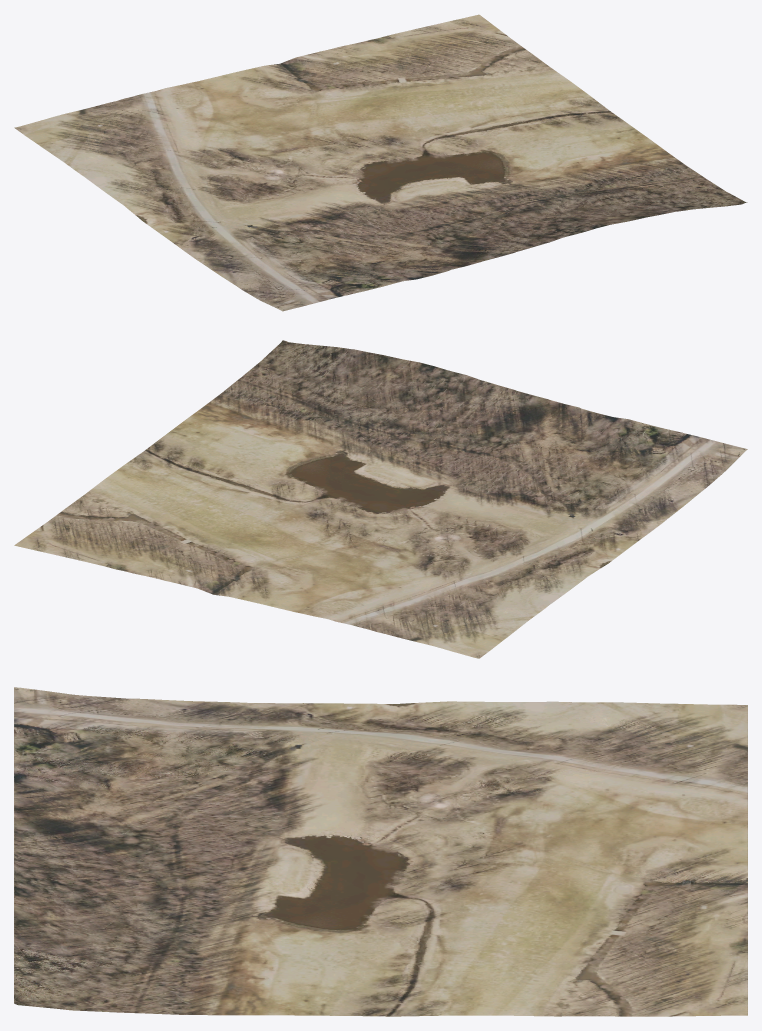
The model's file is CM_Terrain_24491278_6818975.fbx.
The picture shows the model from 3 angles, top to bottom: view 1: azimuth 30°, elevation 25°; view 2: azimuth 150°, elevation 25°; view 3: azimuth 270°, elevation 25°; orthographic projection. The views are drawn at different scales.
Parts seen in each view (by area): view 1: CM_Terrain_24491278_6818975_LOD0; view 2: CM_Terrain_24491278_6818975_LOD0; view 3: CM_Terrain_24491278_6818975_LOD0.
Boxes of the visible parts, <box> form: CM_Terrain_24491278_6818975_LOD0: <box>14,14,747,311</box>; CM_Terrain_24491278_6818975_LOD0: <box>14,340,747,658</box>; CM_Terrain_24491278_6818975_LOD0: <box>14,687,747,1016</box>.
Size of what is drawn, in the model's own units: 205 by 9.08 by 205.
